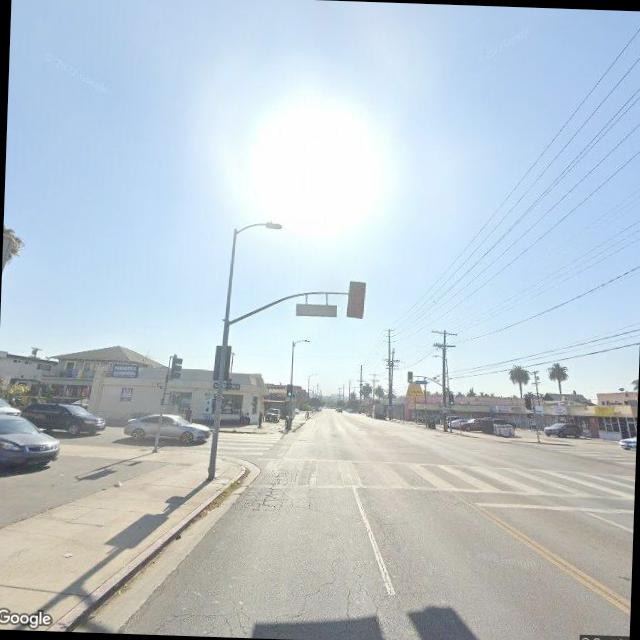crack: (280, 547, 383, 624), (232, 454, 310, 517)
